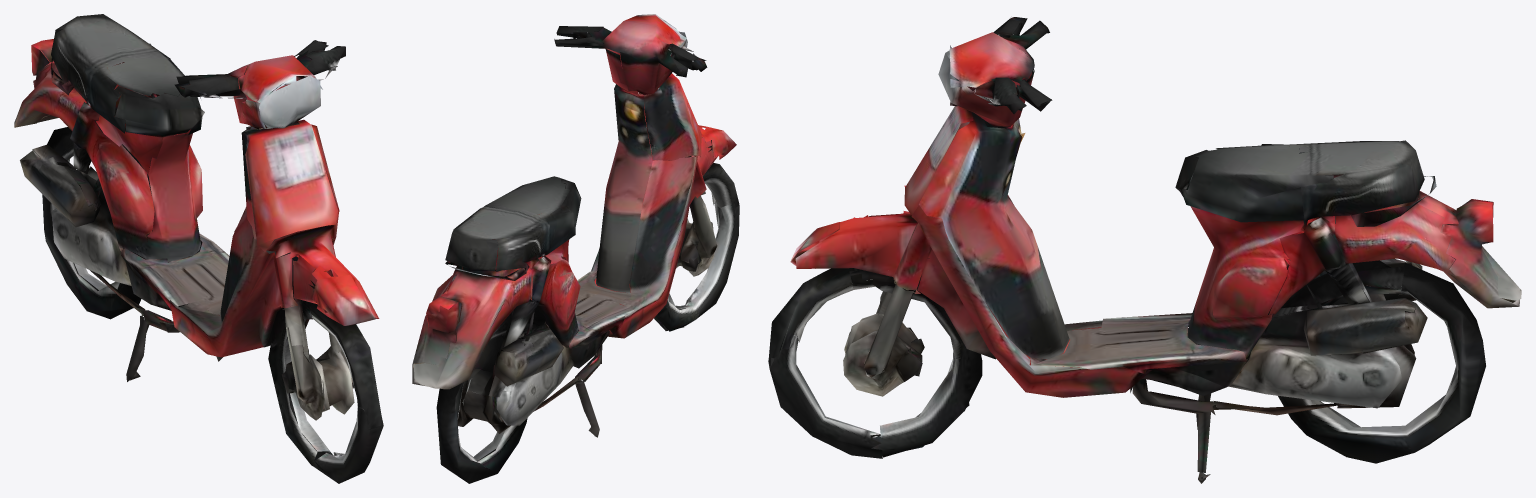
Rendered from prop_motor.glb.
The picture shows the model from 3 angles, left to right: view 1: azimuth 30°, elevation 25°; view 2: azimuth 150°, elevation 25°; view 3: azimuth 270°, elevation 25°; orthographic projection. The views are drawn at different scales.
Visible parts, largest first — view 1: prop_motor; view 2: prop_motor; view 3: prop_motor.
Boxes of the visible parts, <box> form: prop_motor: <box>14,14,383,483</box>; prop_motor: <box>412,14,739,483</box>; prop_motor: <box>768,17,1521,483</box>.
Size of the model in its own units: 0.5278 by 1.17 by 1.9.
Materials: 1 (1 with a texture image).
